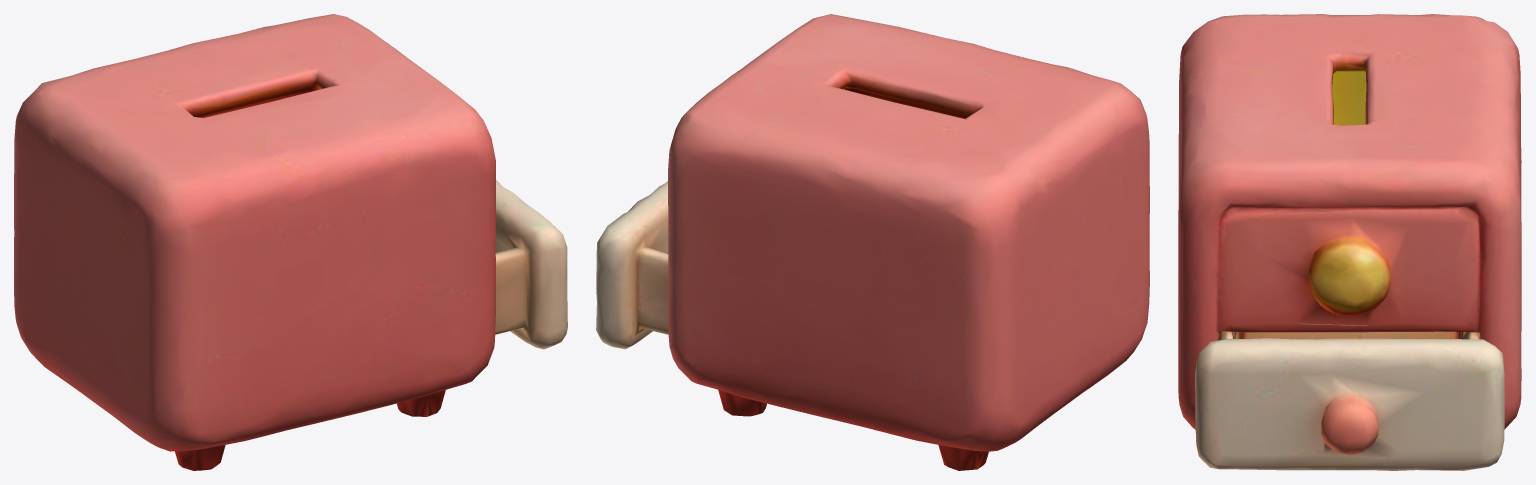
Rendered from safe.glb.
3 renders of one model, left to right at view 1: azimuth 30°, elevation 25°; view 2: azimuth 150°, elevation 25°; view 3: azimuth 270°, elevation 25°, orthographic. The views are drawn at different scales.
Visible parts, largest first — view 1: tripo_node_56832472-17de-4714-8641-0cd146bc808a; view 2: tripo_node_56832472-17de-4714-8641-0cd146bc808a; view 3: tripo_node_56832472-17de-4714-8641-0cd146bc808a.
Part boxes in pixels (bbox=[...]): tripo_node_56832472-17de-4714-8641-0cd146bc808a: bbox=[14, 14, 567, 470]; tripo_node_56832472-17de-4714-8641-0cd146bc808a: bbox=[596, 14, 1149, 470]; tripo_node_56832472-17de-4714-8641-0cd146bc808a: bbox=[1178, 14, 1521, 470].
Size of the model in its own units: 1 by 0.6423 by 0.6468.
1 material, 1 textured.
